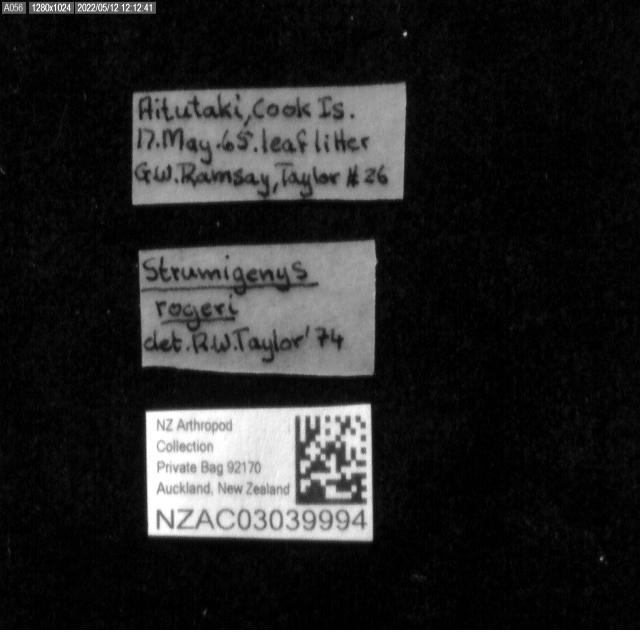hand_label: (132, 83, 406, 205), (139, 241, 376, 377)
typed_label: (146, 405, 374, 541)
